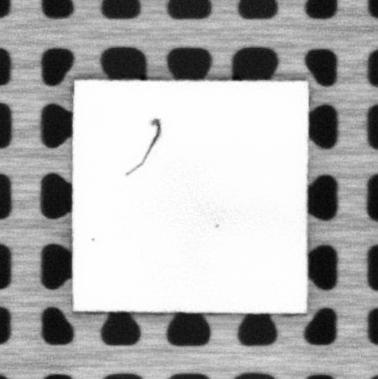DIE_INK: (126, 118, 163, 177), (211, 220, 222, 230), (88, 234, 97, 243)
